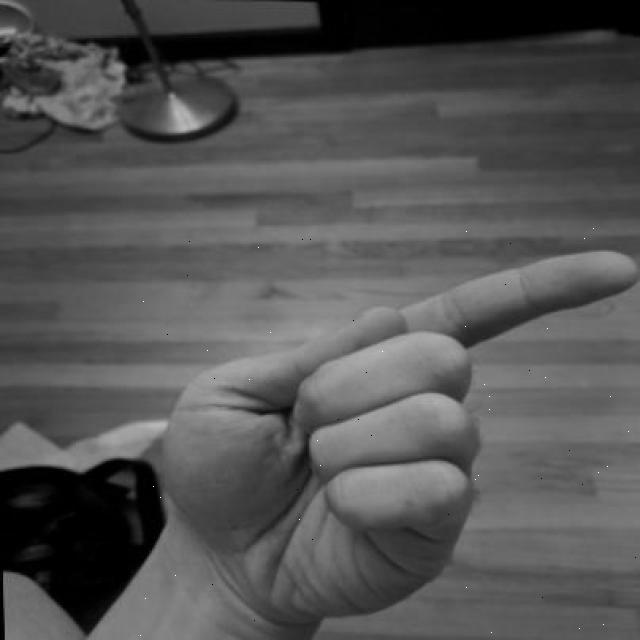G: (138, 228, 638, 639)
